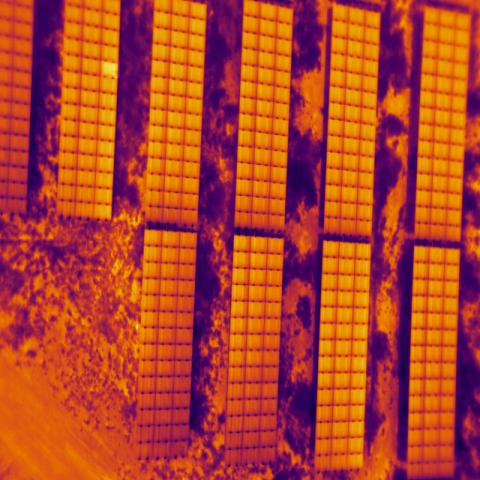fault: (102, 61, 120, 78)
